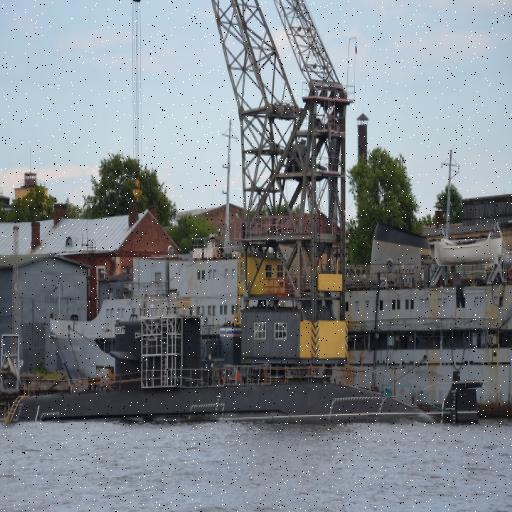submarine: (5, 317, 438, 425)
